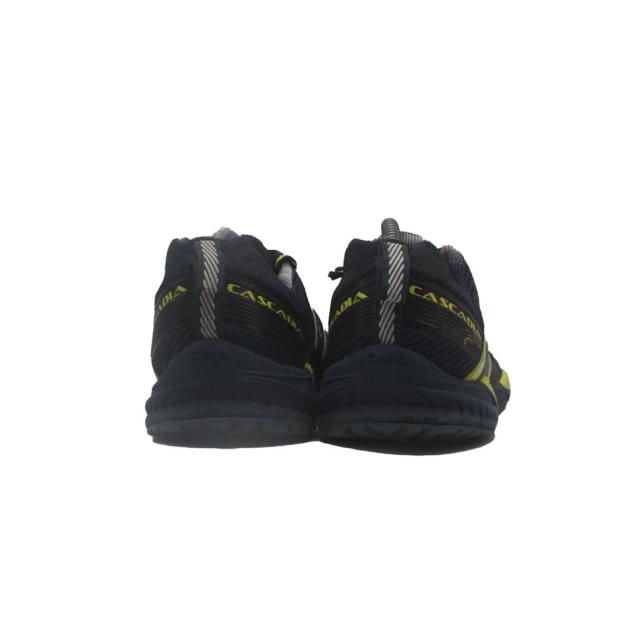heel: (332, 222, 477, 373), (153, 227, 311, 357)
midsole: (148, 364, 507, 452)
